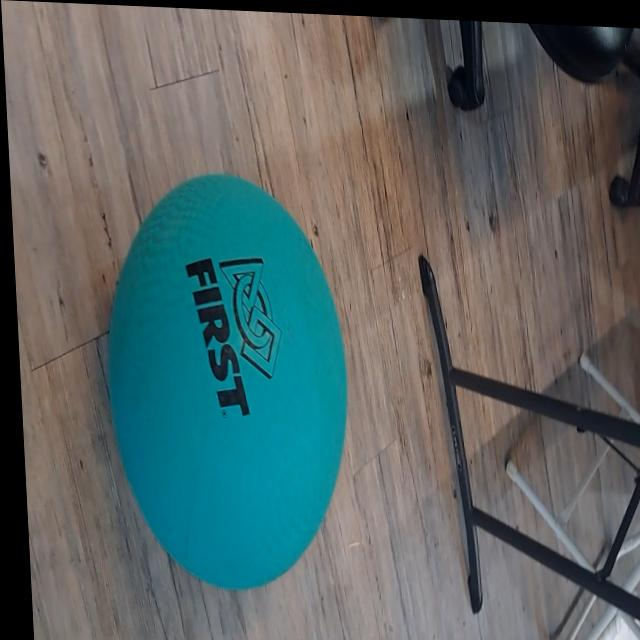ALGAE: (95, 165, 360, 598)
